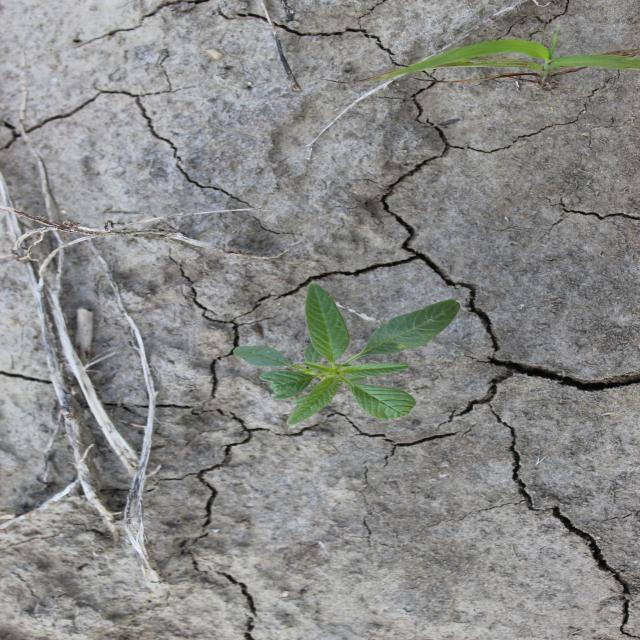Waterhemp: (230, 281, 462, 427)
